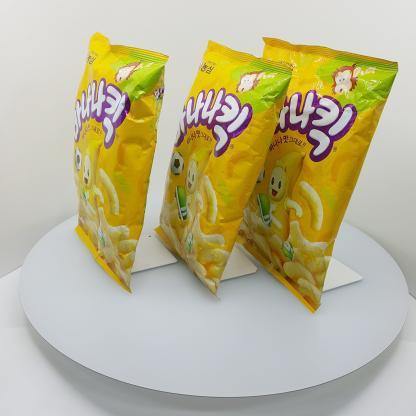Plastic Packaging: (282, 32, 396, 316), (62, 26, 168, 304), (177, 32, 269, 310)
